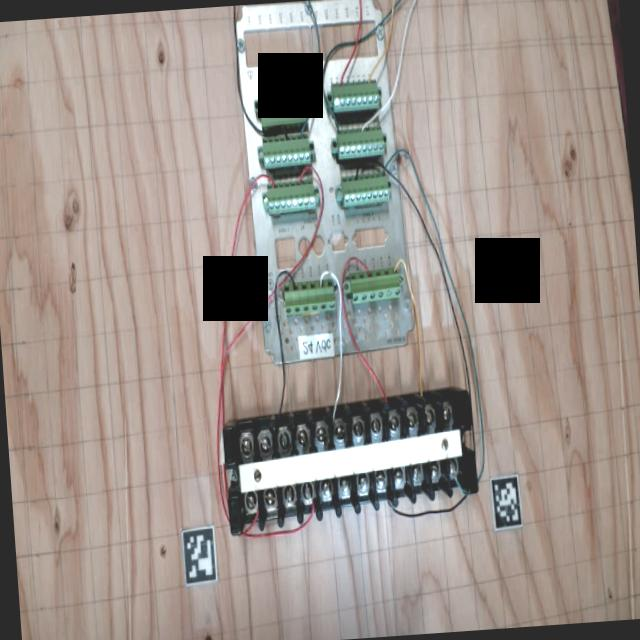Flathead_Block: (216, 393, 483, 534)
Terminal_1: (283, 278, 335, 315), (349, 267, 402, 303)
Terminal_2: (261, 132, 311, 169), (266, 178, 316, 214), (341, 171, 390, 207), (336, 125, 385, 159), (331, 79, 380, 112)
